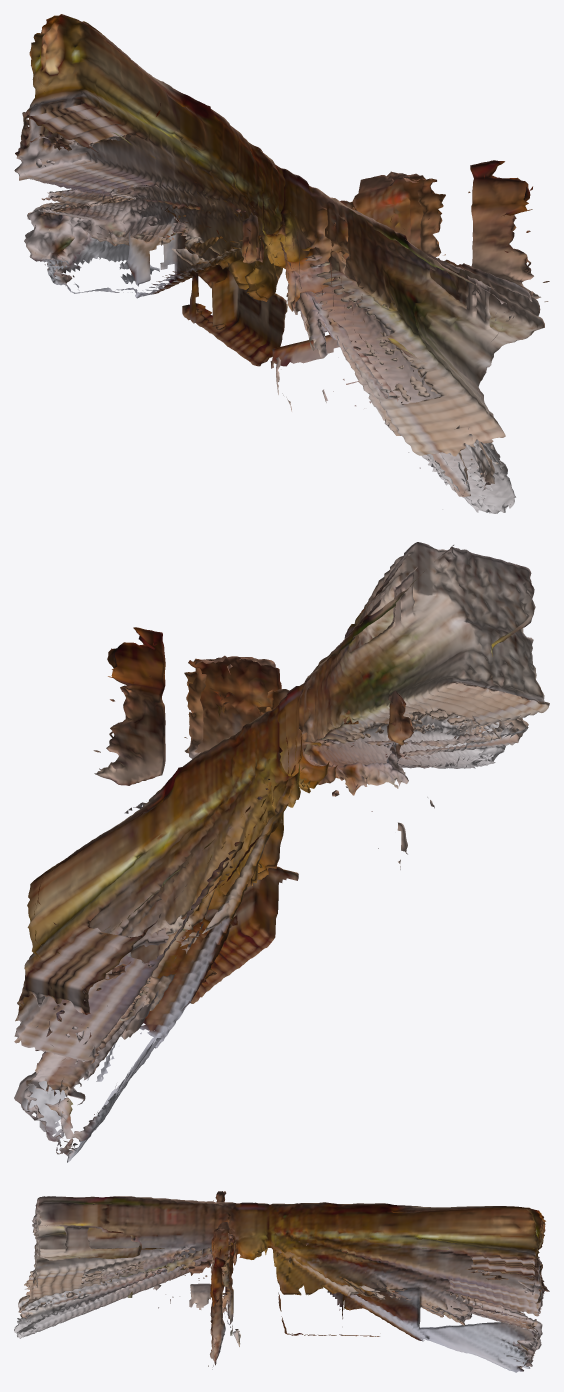
The model's file is pageworld-diagon-alley-arrival-v20260502224426-ea1047b7-collider.glb.
The picture shows the model from 3 angles, top to bottom: view 1: azimuth 30°, elevation 25°; view 2: azimuth 150°, elevation 25°; view 3: azimuth 270°, elevation 25°; orthographic projection. The views are drawn at different scales.
Parts seen in each view (by area): view 1: world; view 2: world; view 3: world.
Part boxes in pixels (x1,y1,x2,y2): world: (14, 14, 549, 513); world: (14, 542, 549, 1162); world: (14, 1191, 549, 1372).
Bounding box in the file's own units: 10.78 × 9.3 × 27.07.
